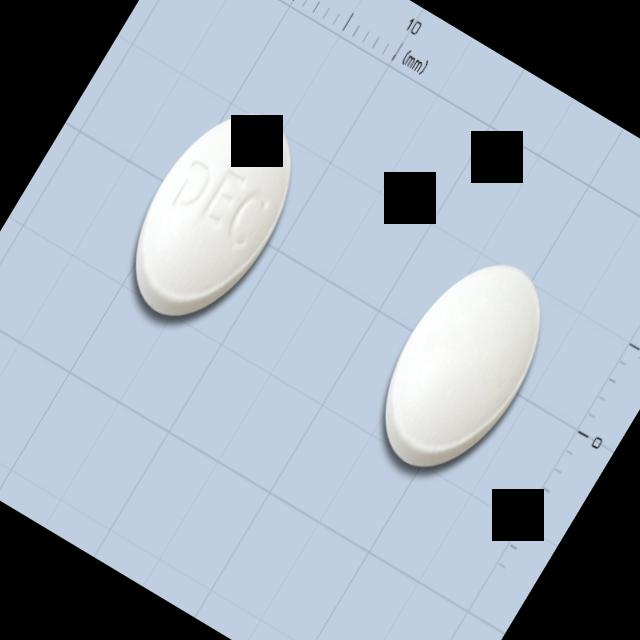Eprosin: (102, 85, 325, 344)
